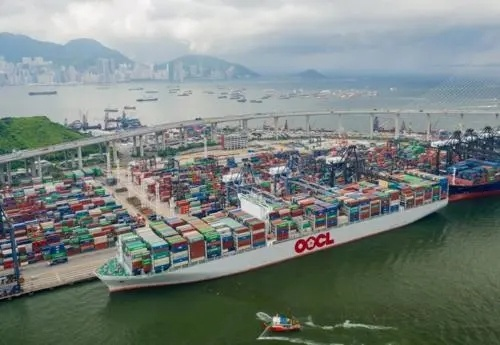Cargoship: (94, 159, 450, 294)
